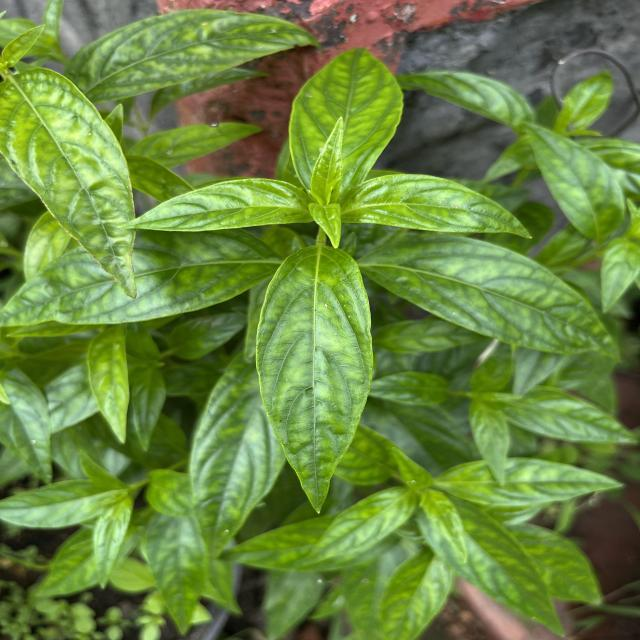Andrographis paniculata: (362, 232, 620, 362), (0, 66, 142, 301), (255, 244, 377, 516), (66, 7, 320, 101), (186, 348, 286, 560), (423, 500, 568, 638), (286, 46, 404, 196), (344, 172, 535, 242), (520, 121, 624, 245), (113, 177, 314, 234), (433, 455, 625, 507), (296, 485, 418, 566), (146, 512, 212, 636), (504, 386, 638, 446), (85, 330, 146, 440), (1, 478, 100, 528)
